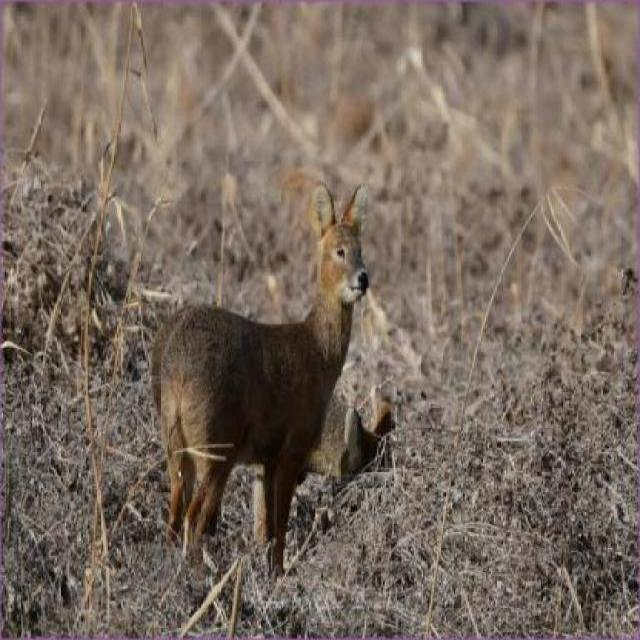deer: (147, 178, 376, 587)
